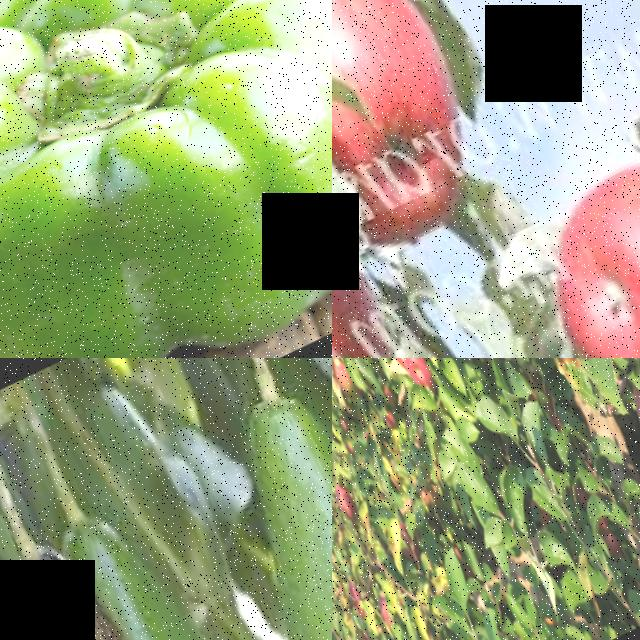apple: (332, 0, 515, 264), (496, 113, 640, 358), (611, 363, 640, 562), (390, 358, 436, 406), (332, 482, 357, 523), (332, 358, 353, 402)
avocado: (171, 358, 332, 640), (66, 478, 332, 640), (0, 527, 287, 640)
bell pepper: (0, 0, 332, 358)
